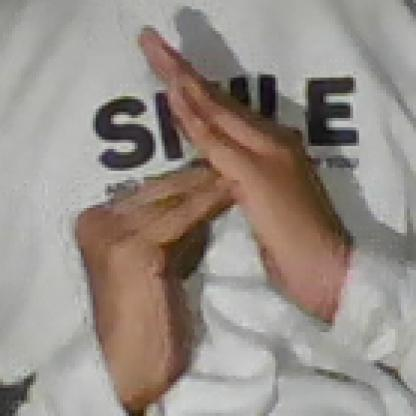Z: (67, 19, 328, 374)
